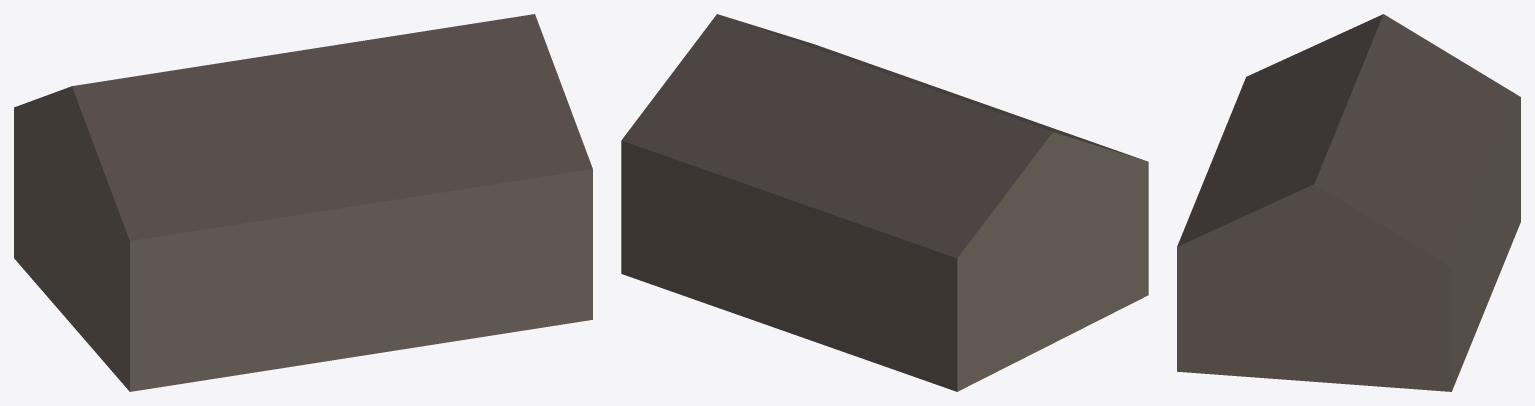
3 renders of one model, left to right at view 1: azimuth 30°, elevation 25°; view 2: azimuth 150°, elevation 25°; view 3: azimuth 270°, elevation 25°, orthographic. The views are drawn at different scales.
Parts seen in each view (by area): view 1: HP-w859082497; view 2: HP-w859082497; view 3: HP-w859082497.
Part boxes in pixels (box(x1,y1,x2,y2)): HP-w859082497: box(14, 14, 592, 391); HP-w859082497: box(621, 14, 1148, 391); HP-w859082497: box(1177, 14, 1520, 391).
Size of the model in its own units: 19.63 by 9.51 by 14.99.
